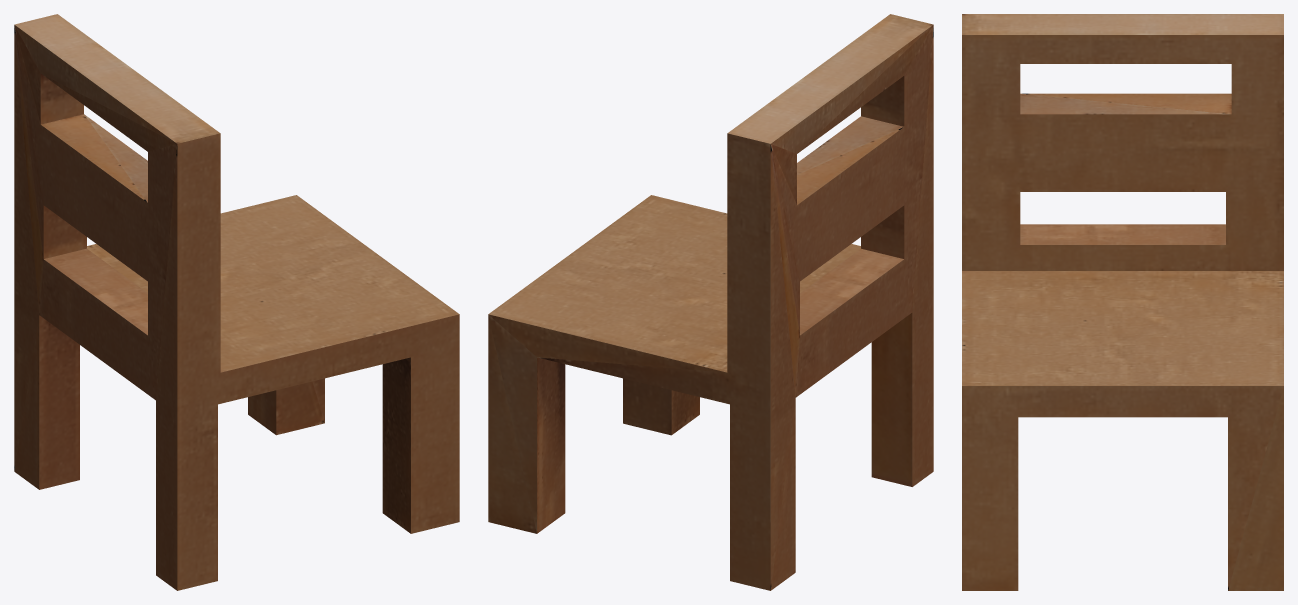
3 renders of one model, left to right at view 1: azimuth 30°, elevation 25°; view 2: azimuth 150°, elevation 25°; view 3: azimuth 270°, elevation 25°, orthographic.
Parts seen in each view (by area): view 1: Node; view 2: Node; view 3: Node.
Boxes of the visible parts, <box> form: Node: <box>14,14,459,590</box>; Node: <box>488,14,933,590</box>; Node: <box>962,14,1283,590</box>.
Size of the model in its own units: 0.4627 by 0.7 by 0.4627.
Materials: 1 (1 with a texture image).
